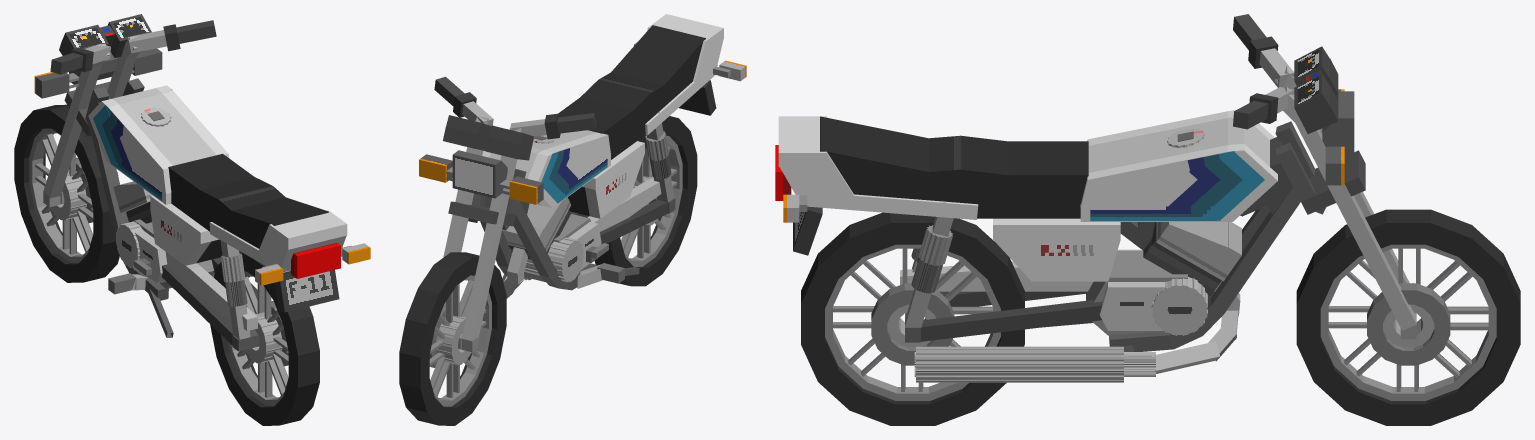
The model's file is bike 2.glb.
3 views of the same model, side by side, from view 1: azimuth 30°, elevation 25°; view 2: azimuth 150°, elevation 25°; view 3: azimuth 270°, elevation 25° (orthographic). The views are drawn at different scales.
Parts seen in each view (by area): view 1: 5bbec167-816b-ae35-f039-055848d36223_273, ce2506c2-aa44-a9ee-da3f-14e53edcea41_239, 92ad9e56-9090-9287-461e-a8f235f54809_14, 893e0ec5-5bab-14fa-2bb8-8f142078f7e5_298, 203e8c2b-6f88-cf55-2091-f064838d2a6b_277, 52155da9-3a8c-5e3a-b2e1-5ef11fea8b95_358, 0f148178-130f-3ac6-a0d8-1b29862127a8_297, 4f7ef6f8-ed61-b8cc-24d2-7fdff86e5d96_167, 9c542ead-3394-0b63-5c6b-abae55d5870c_208, 623120b5-61cc-aa29-4912-1f42e20e310a_526, c05116d1-3be0-554d-8293-dc85b344b4eb_237, 9f6cf138-561b-2b25-1531-706c215c59af_243 (+54 smaller); view 2: 203e8c2b-6f88-cf55-2091-f064838d2a6b_277, 92ad9e56-9090-9287-461e-a8f235f54809_14, 5bbec167-816b-ae35-f039-055848d36223_273, 80d3c227-6caa-7f25-3fe5-2314572c1a28_16, 4f7ef6f8-ed61-b8cc-24d2-7fdff86e5d96_167, f649be47-214c-2bb9-591e-9318603088ec_275, 52155da9-3a8c-5e3a-b2e1-5ef11fea8b95_358, 89bb396a-1440-091b-0798-3ead6b46830b_33, 5871512f-ebfb-6a5a-5b0d-4579042b3e72_34, 02bd7895-353c-3451-b85e-ceeb2beeb0be_3, deca1dd9-8ae5-188e-870a-a99bcfee3aad_32, 2575a326-204e-dd59-5368-80e258c97ce9_274 (+55 smaller); view 3: 5bbec167-816b-ae35-f039-055848d36223_273, 203e8c2b-6f88-cf55-2091-f064838d2a6b_277, 3c051835-3245-49e5-6182-09f8022236d7_357, 02bd7895-353c-3451-b85e-ceeb2beeb0be_3, ce2506c2-aa44-a9ee-da3f-14e53edcea41_239, 2575a326-204e-dd59-5368-80e258c97ce9_274, 3d56815a-65e2-0978-aa26-d4b280d8c99d_184, ebfd5736-2a49-989f-e7a5-cc8d60171f3f_198, 1f2238f5-2617-5997-f1e0-c5d18c278ea2_244, 23983523-9e87-b27c-f4d7-47af7df17ecc_238, 4120842e-614e-6834-1da2-cafe9ee5ad59_367, f649be47-214c-2bb9-591e-9318603088ec_275 (+70 smaller).
Part boxes in pixels (left/top/right/bottom): 5bbec167-816b-ae35-f039-055848d36223_273: left=168, top=153, right=253, bottom=231; ce2506c2-aa44-a9ee-da3f-14e53edcea41_239: left=119, top=93, right=216, bottom=165; 92ad9e56-9090-9287-461e-a8f235f54809_14: left=43, top=64, right=101, bottom=198; 893e0ec5-5bab-14fa-2bb8-8f142078f7e5_298: left=274, top=270, right=339, bottom=312; 203e8c2b-6f88-cf55-2091-f064838d2a6b_277: left=231, top=197, right=328, bottom=237; 52155da9-3a8c-5e3a-b2e1-5ef11fea8b95_358: left=161, top=264, right=232, bottom=344; 0f148178-130f-3ac6-a0d8-1b29862127a8_297: left=291, top=243, right=340, bottom=278; 4f7ef6f8-ed61-b8cc-24d2-7fdff86e5d96_167: left=87, top=113, right=128, bottom=236; 9c542ead-3394-0b63-5c6b-abae55d5870c_208: left=283, top=214, right=339, bottom=247; 623120b5-61cc-aa29-4912-1f42e20e310a_526: left=283, top=316, right=319, bottom=355; c05116d1-3be0-554d-8293-dc85b344b4eb_237: left=108, top=104, right=172, bottom=177; 9f6cf138-561b-2b25-1531-706c215c59af_243: left=150, top=195, right=211, bottom=243; 203e8c2b-6f88-cf55-2091-f064838d2a6b_277: left=611, top=25, right=705, bottom=85; 92ad9e56-9090-9287-461e-a8f235f54809_14: left=461, top=155, right=517, bottom=340; 5bbec167-816b-ae35-f039-055848d36223_273: left=558, top=97, right=645, bottom=159; 80d3c227-6caa-7f25-3fe5-2314572c1a28_16: left=452, top=150, right=501, bottom=198; 4f7ef6f8-ed61-b8cc-24d2-7fdff86e5d96_167: left=511, top=200, right=555, bottom=277; f649be47-214c-2bb9-591e-9318603088ec_275: left=580, top=79, right=651, bottom=114; 52155da9-3a8c-5e3a-b2e1-5ef11fea8b95_358: left=600, top=200, right=668, bottom=244; 89bb396a-1440-091b-0798-3ead6b46830b_33: left=399, top=319, right=435, bottom=357; 5871512f-ebfb-6a5a-5b0d-4579042b3e72_34: left=406, top=288, right=445, bottom=327; 02bd7895-353c-3451-b85e-ceeb2beeb0be_3: left=443, top=147, right=483, bottom=304; deca1dd9-8ae5-188e-870a-a99bcfee3aad_32: left=399, top=351, right=429, bottom=388; 2575a326-204e-dd59-5368-80e258c97ce9_274: left=645, top=63, right=697, bottom=123; 5bbec167-816b-ae35-f039-055848d36223_273: left=977, top=141, right=1088, bottom=218; 203e8c2b-6f88-cf55-2091-f064838d2a6b_277: left=820, top=116, right=928, bottom=199; 3c051835-3245-49e5-6182-09f8022236d7_357: left=921, top=300, right=1102, bottom=341; 02bd7895-353c-3451-b85e-ceeb2beeb0be_3: left=1294, top=118, right=1416, bottom=330; ce2506c2-aa44-a9ee-da3f-14e53edcea41_239: left=1088, top=118, right=1227, bottom=172; 2575a326-204e-dd59-5368-80e258c97ce9_274: left=842, top=175, right=976, bottom=203; 3d56815a-65e2-0978-aa26-d4b280d8c99d_184: left=1210, top=182, right=1305, bottom=313; ebfd5736-2a49-989f-e7a5-cc8d60171f3f_198: left=803, top=191, right=978, bottom=219; 1f2238f5-2617-5997-f1e0-c5d18c278ea2_244: left=993, top=218, right=1120, bottom=239; 23983523-9e87-b27c-f4d7-47af7df17ecc_238: left=1087, top=145, right=1227, bottom=192; 4120842e-614e-6834-1da2-cafe9ee5ad59_367: left=1108, top=282, right=1165, bottom=330; f649be47-214c-2bb9-591e-9318603088ec_275: left=960, top=136, right=1008, bottom=188.
Size of the model in its own units: 0.9453 by 1.53 by 2.91.
1 material, 1 textured.
